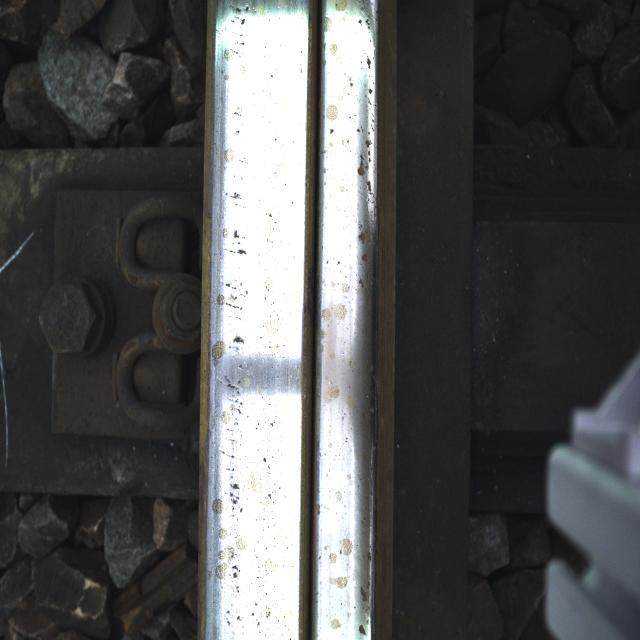normal: (208, 38, 262, 626), (333, 35, 365, 613)
